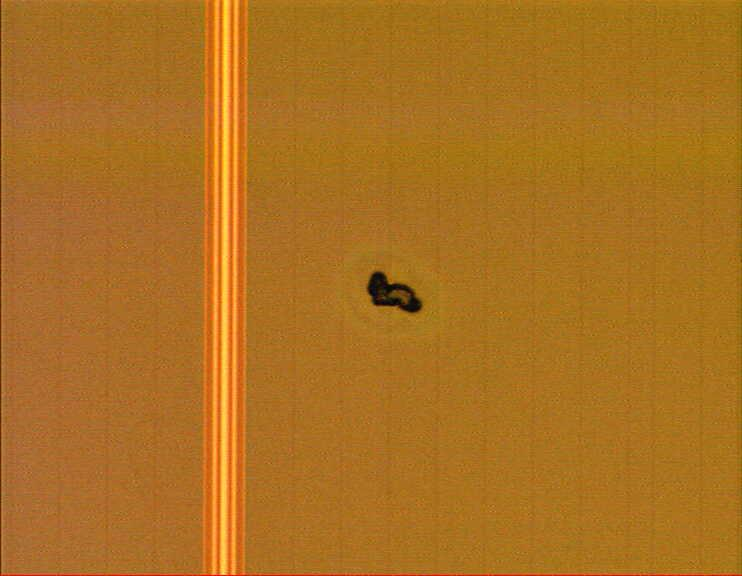PIQ PARTICLE: (363, 265, 431, 321)
